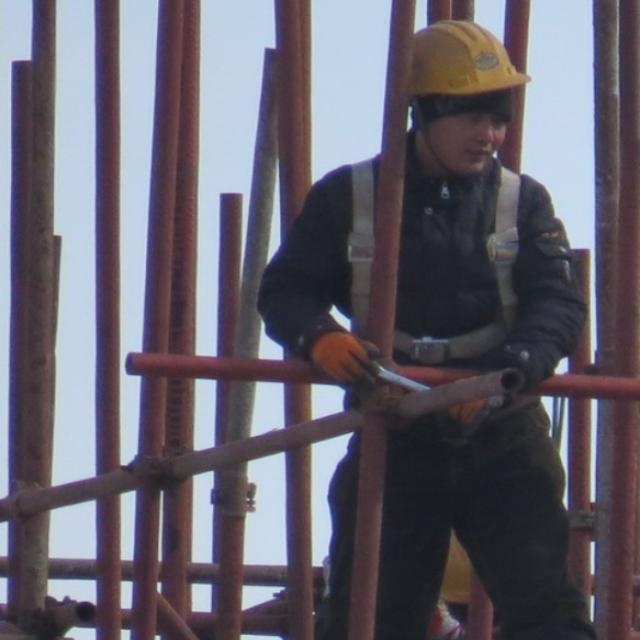Arnes_seguridad: (344, 151, 535, 373)
